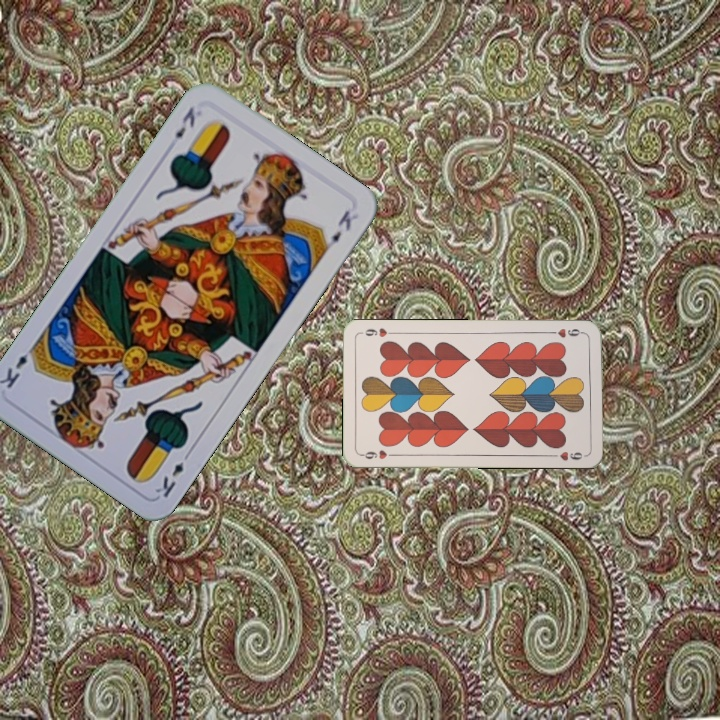EK: (151, 446, 194, 500), (170, 102, 198, 141)
H9: (357, 446, 398, 462), (546, 324, 587, 340)
